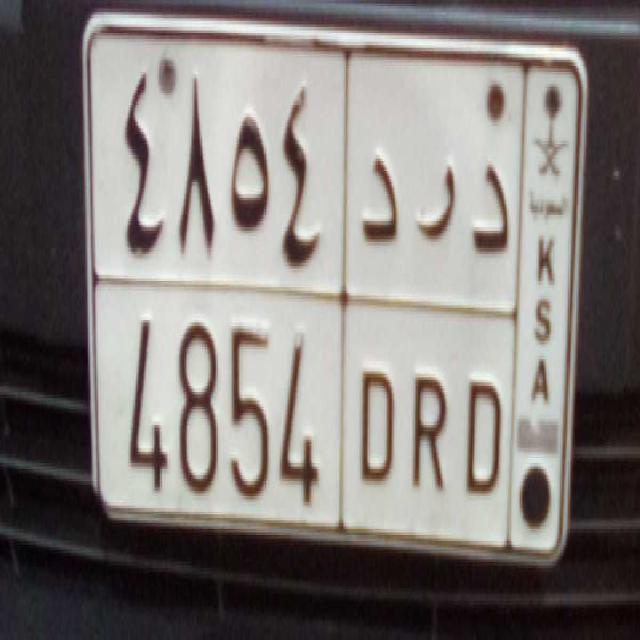license_plate: (102, 281, 511, 560)
